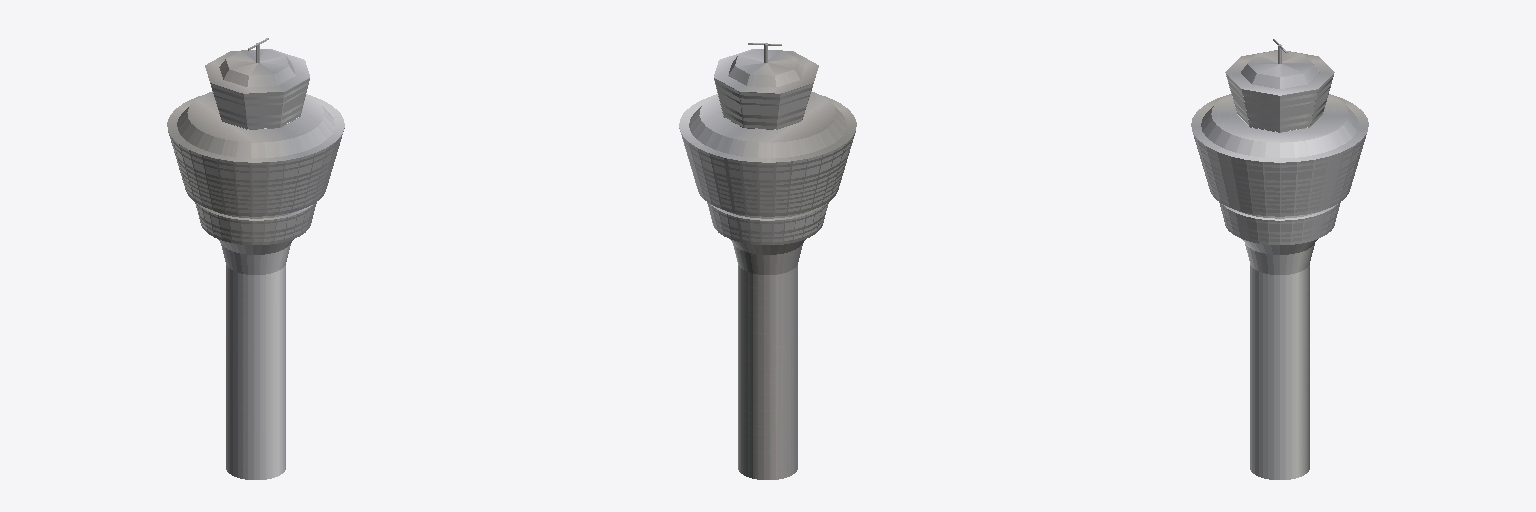
3 views of the same model, side by side, from view 1: azimuth 30°, elevation 25°; view 2: azimuth 150°, elevation 25°; view 3: azimuth 270°, elevation 25° (orthographic).
Visible parts, largest first — view 1: Zylinder.001_Zylinder.003; view 2: Zylinder.001_Zylinder.003; view 3: Zylinder.001_Zylinder.003.
Part boxes in pixels (x1,y1,x2,y2): Zylinder.001_Zylinder.003: (167, 38, 344, 479); Zylinder.001_Zylinder.003: (679, 43, 856, 479); Zylinder.001_Zylinder.003: (1191, 39, 1368, 479).
Bounding box in the file's own units: 11.16 × 29.27 × 11.16.
Materials: 4 (1 with a texture image).